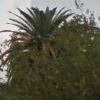Palm tree: (6, 1, 65, 79)
